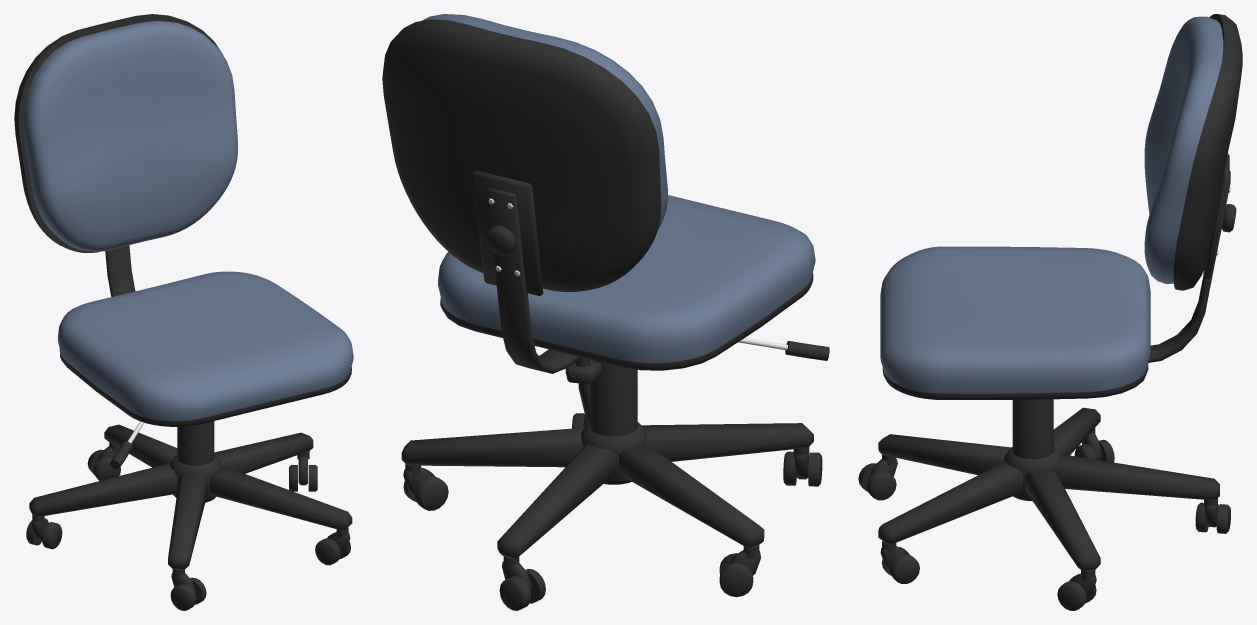
Rendered from Kit_TaskChair_Navy.fbx.
3 views of the same model, side by side, from view 1: azimuth 30°, elevation 25°; view 2: azimuth 150°, elevation 25°; view 3: azimuth 270°, elevation 25° (orthographic). The views are drawn at different scales.
Parts seen in each view (by area): view 1: Kit_TaskChair_LOD0; view 2: Kit_TaskChair_LOD0; view 3: Kit_TaskChair_LOD0.
Boxes of the visible parts, x1=… form: Kit_TaskChair_LOD0: x1=14, y1=14, x2=353, y2=610; Kit_TaskChair_LOD0: x1=382, y1=14, x2=829, y2=610; Kit_TaskChair_LOD0: x1=858, y1=14, x2=1242, y2=610.
Size of what is drawn, in the model's own units: 0.6171 by 0.9327 by 0.6544.
